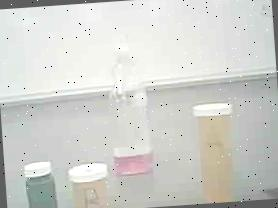Bottle A: (190, 100, 240, 204)
Bottle B: (66, 159, 110, 208)
Bottle C: (21, 157, 60, 208)
hazard: (103, 30, 158, 184)
